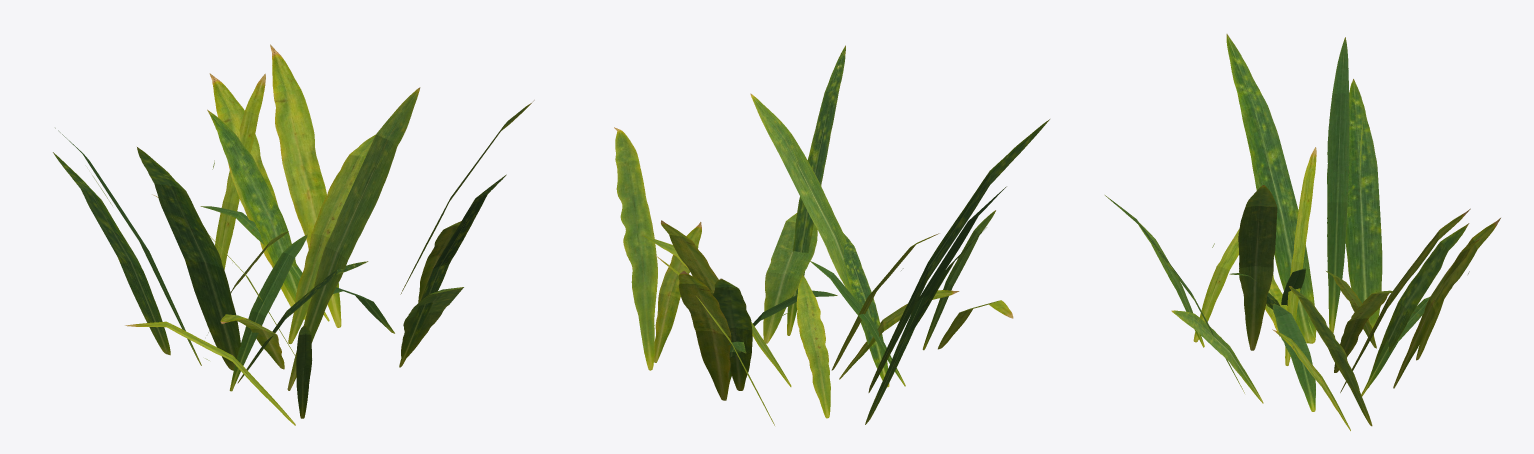
File: grass_03.glb
3 renders of one model, left to right at view 1: azimuth 30°, elevation 25°; view 2: azimuth 150°, elevation 25°; view 3: azimuth 270°, elevation 25°, orthographic. The views are drawn at different scales.
Visible parts, largest first — view 1: grass_03; view 2: grass_03; view 3: grass_03.
Part boxes in pixels (left/top/right/bottom): grass_03: left=53, top=44, right=534, bottom=425; grass_03: left=614, top=45, right=1049, bottom=425; grass_03: left=1105, top=34, right=1500, bottom=430.
Size of the model in its own units: 1.14 by 0.6578 by 1.02.
Materials: 1 (1 with a texture image).
